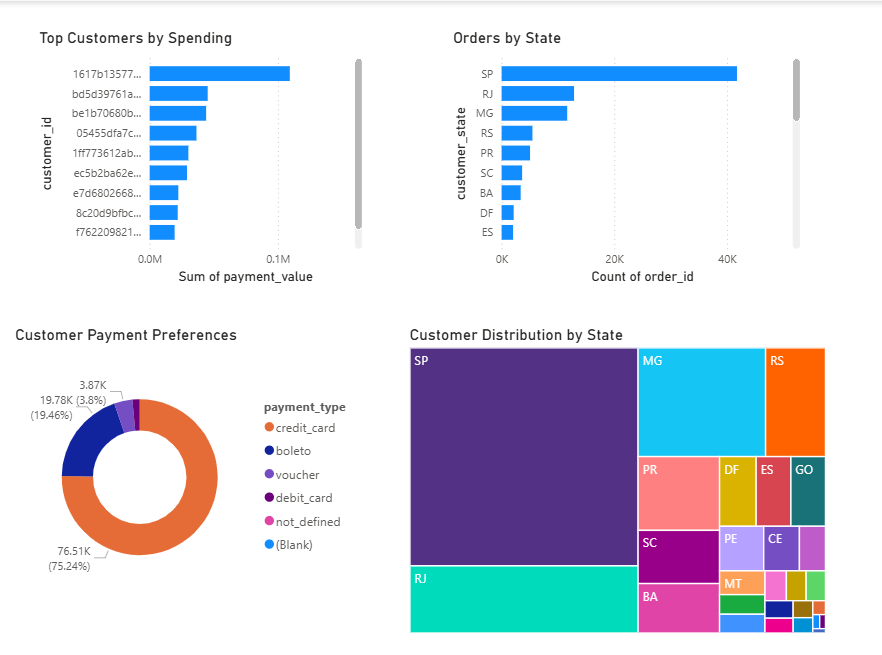

The dashboard page shown, as its layout file describes it:
{"tool":"powerbi","page":{"name":"Customer Analytics","canvas":[1280,720],"ordinal":2},"visuals":[{"type":"clusteredBarChart","title":"Top Customers by Spending","fields":{"Category":["ecommerce_data.customer_id"],"Y":["Sum(ecommerce_data.payment_value)"]},"box":[37.1,28.6,358.6,280],"z":0},{"type":"clusteredBarChart","title":"Orders by State","fields":{"Category":["ecommerce_data.customer_state"],"Y":["Count(ecommerce_data.order_id)"]},"box":[484.3,28.6,384.3,280],"z":1},{"type":"donutChart","title":"Customer Payment Preferences","fields":{"Category":["ecommerce_data.payment_type"],"Y":["Count(ecommerce_data.order_id)"]},"box":[11.4,350,384.3,308.6],"z":2},{"type":"treemap","title":"Customer Distribution by State","fields":{"Group":["ecommerce_data.customer_state"],"Values":["Count(ecommerce_data.customer_id)"]},"box":[437.1,350,458.6,337.1],"z":3}]}

Visuals, with their boxes on the page's 1280x720 design canvas (x1, y1, x2, y2). These are canvas units, not pixel positions in the 882x655 screenshot, which may show the page scaled, cropped or inside an application window:
"Top Customers by Spending" clusteredBarChart: crop(37, 29, 396, 309)
"Orders by State" clusteredBarChart: crop(484, 29, 869, 309)
"Customer Payment Preferences" donutChart: crop(11, 350, 396, 659)
"Customer Distribution by State" treemap: crop(437, 350, 896, 687)
